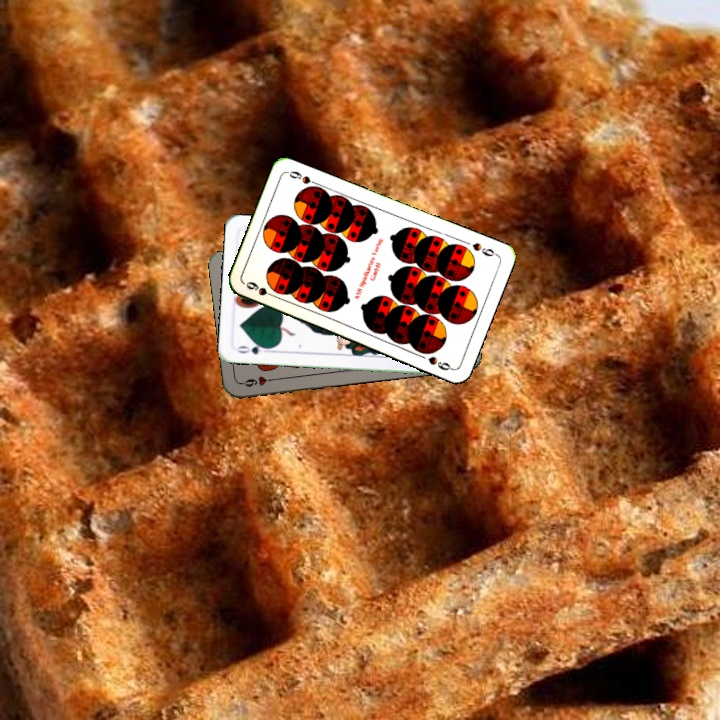GO: (233, 340, 273, 357)
H9: (237, 372, 278, 389)
S9: (242, 277, 280, 301), (468, 238, 500, 259)
